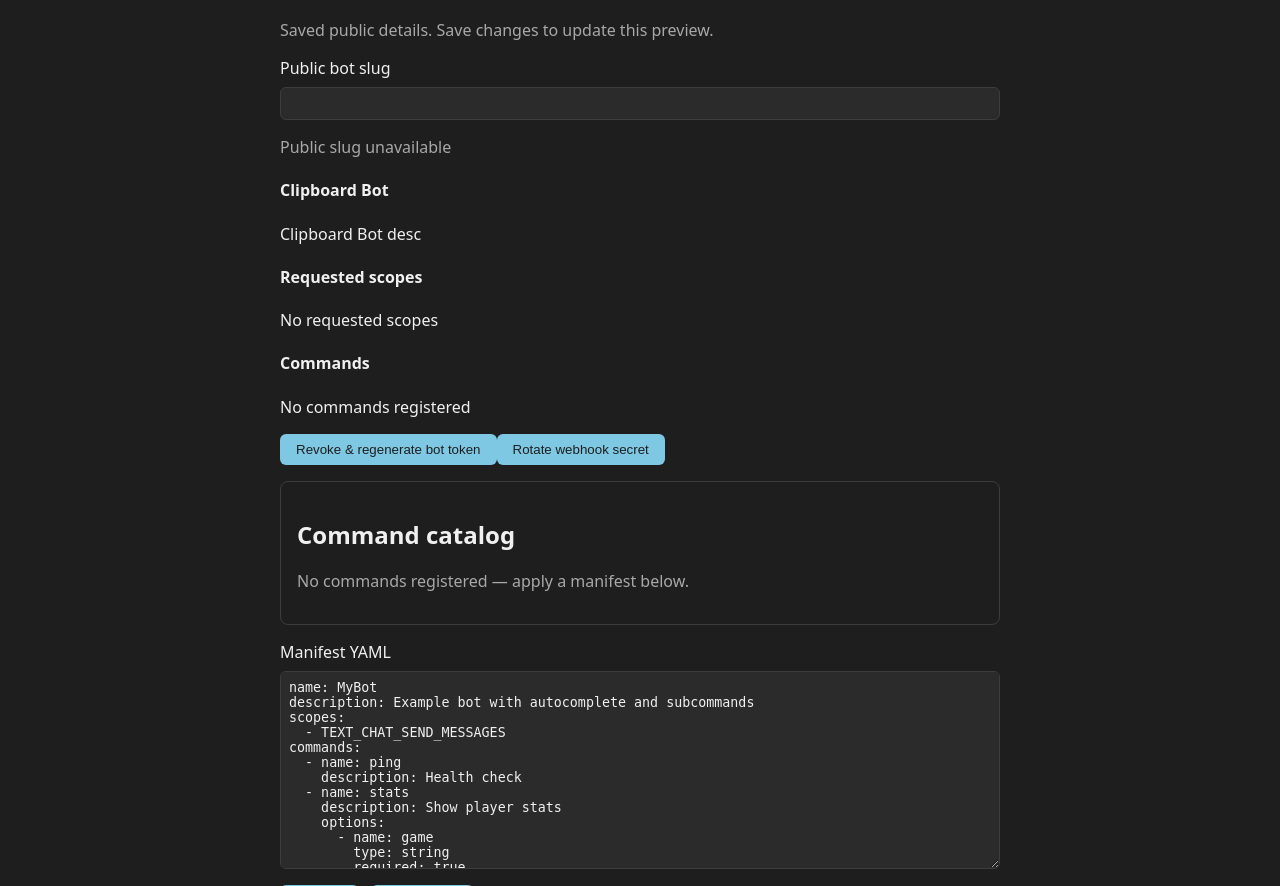
Test: App bot registration and selection › keeps a one-shot secret visible and reports a status when copying fails
(page scrolled)
Click the button "Revoke & regenerate bot token". click: {"x": 388, "y": 449}
box: [280, 434, 496, 465]
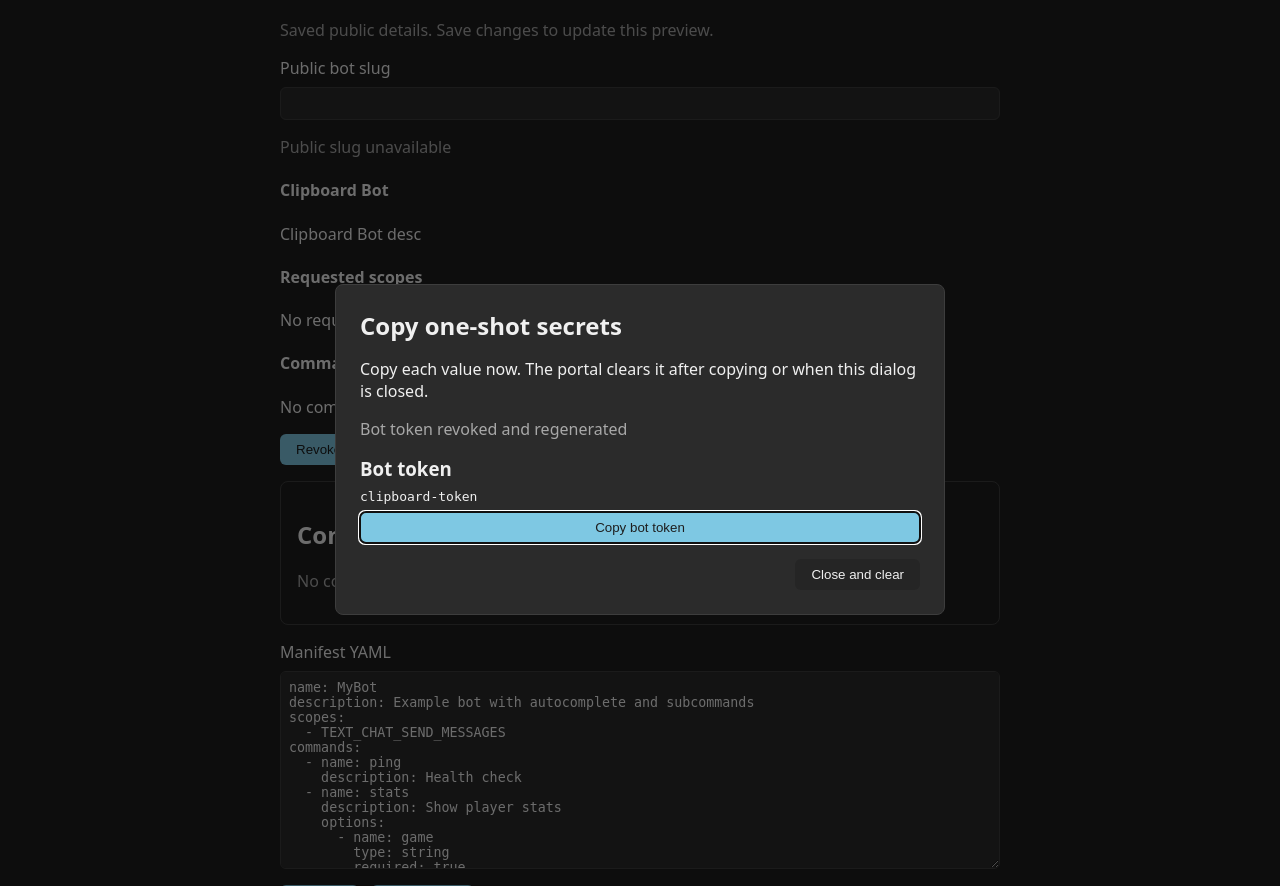
Click the button "Copy bot token". click: {"x": 640, "y": 527}
box: [360, 512, 920, 542]
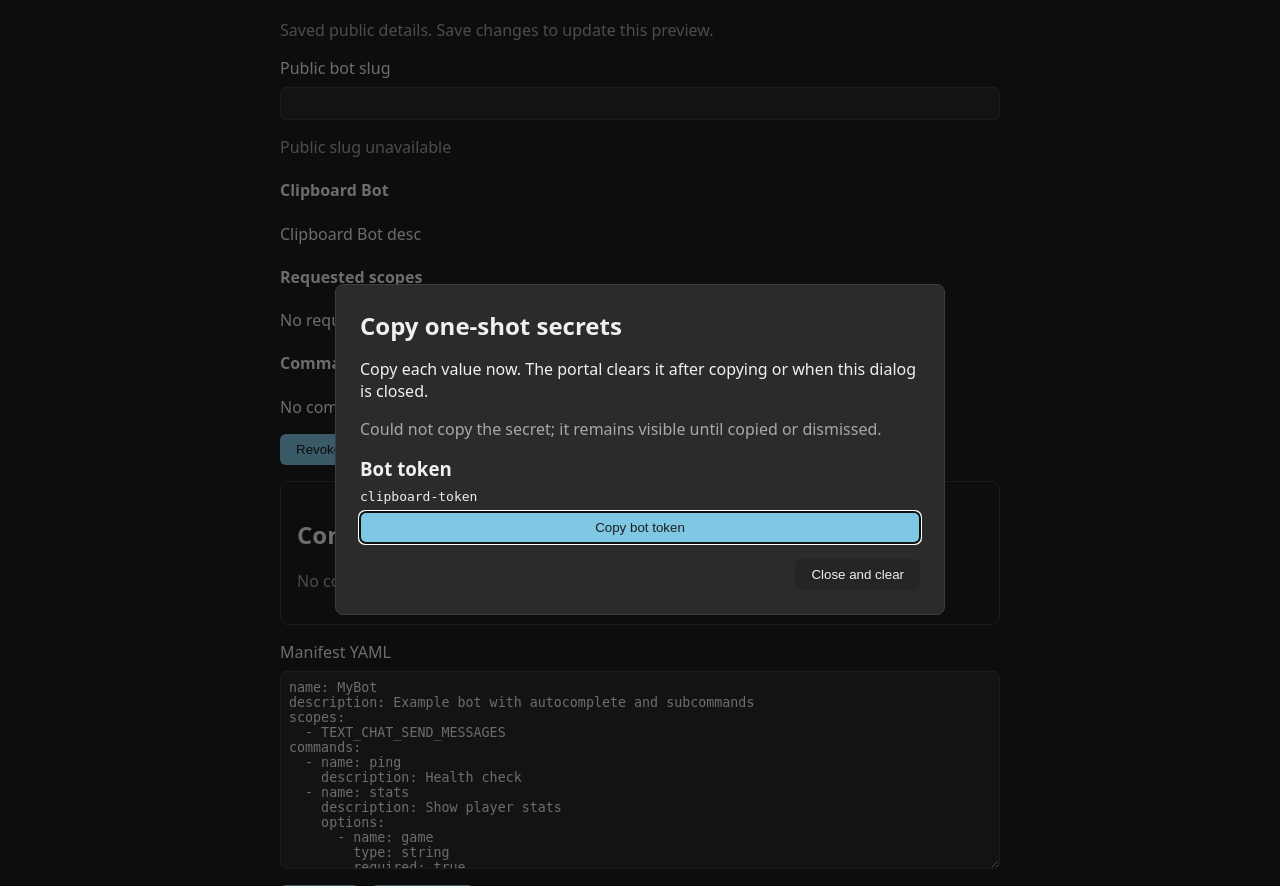
Check: the dialog "Copy one-shot secrets" shows "clipboard-token", box [360, 488, 477, 504]
Check: the message reads "Could not copy the secret; it remains visible until copied or dismissed.", box [360, 418, 882, 440]
